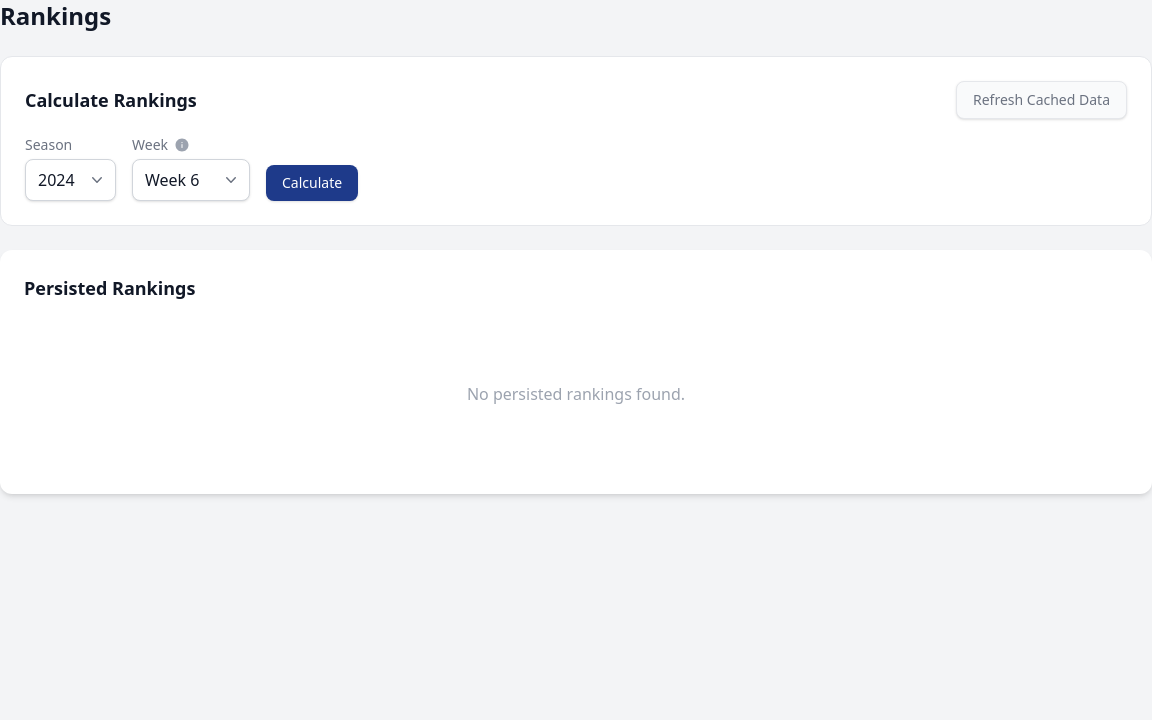
Test: RankingsSnapshotsPage › shows persist warning when not persisted
Click the button "Calculate". click: (312, 183)
box: [266,165,358,201]
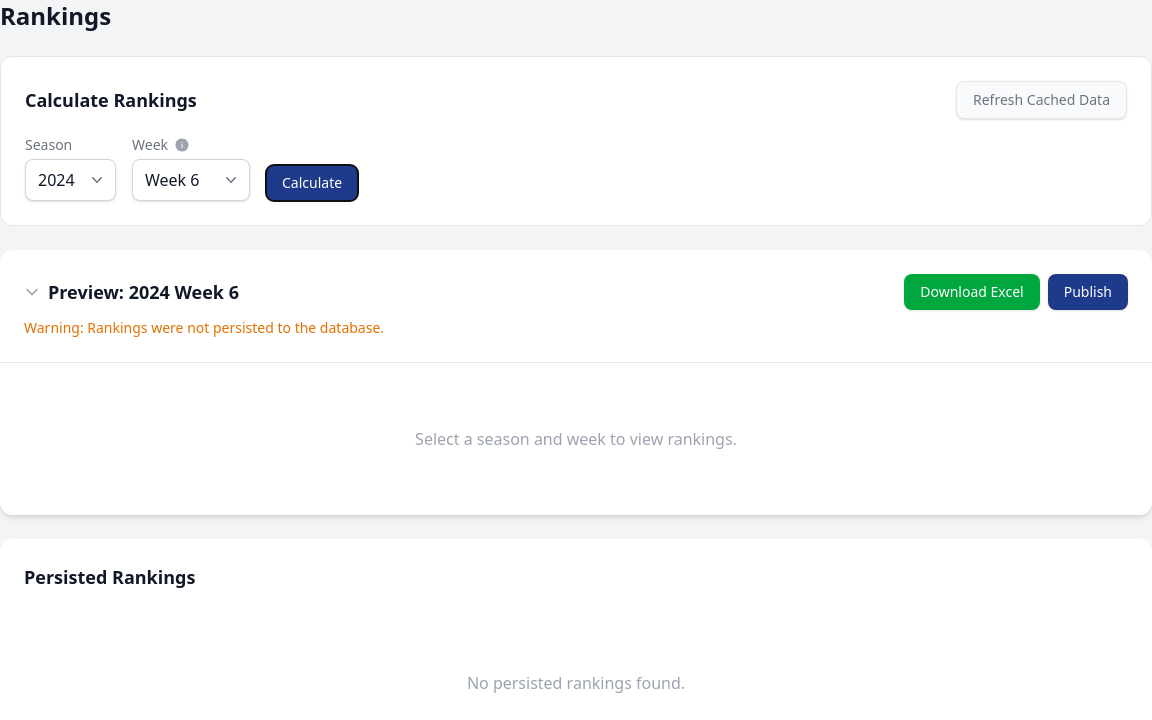
Now the text "Warning: Rankings were not persisted to the database." is shown, box [24,318,384,337]
